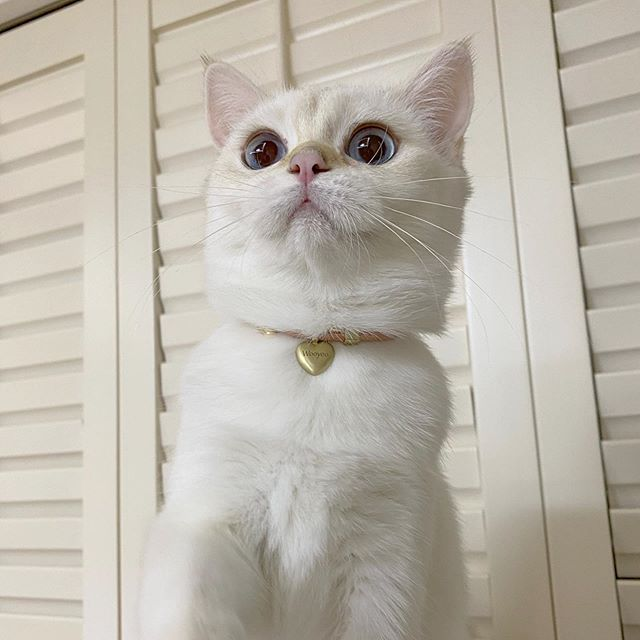cat: (206, 47, 479, 338)
